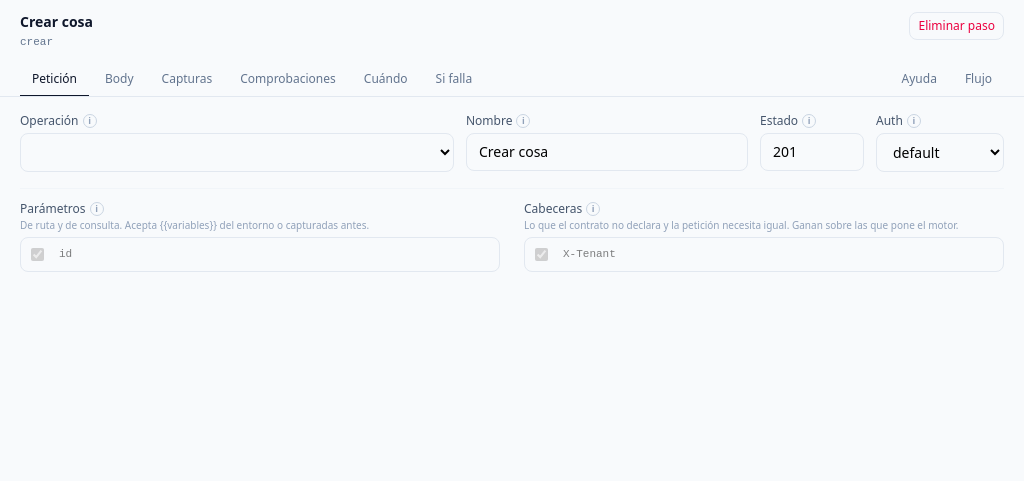
Scenario: la pestaña «Petición» › un login se presenta como login
Click the tab "Ayuda".
click(919, 80)  # box x1=890 y1=62 x2=949 y2=96
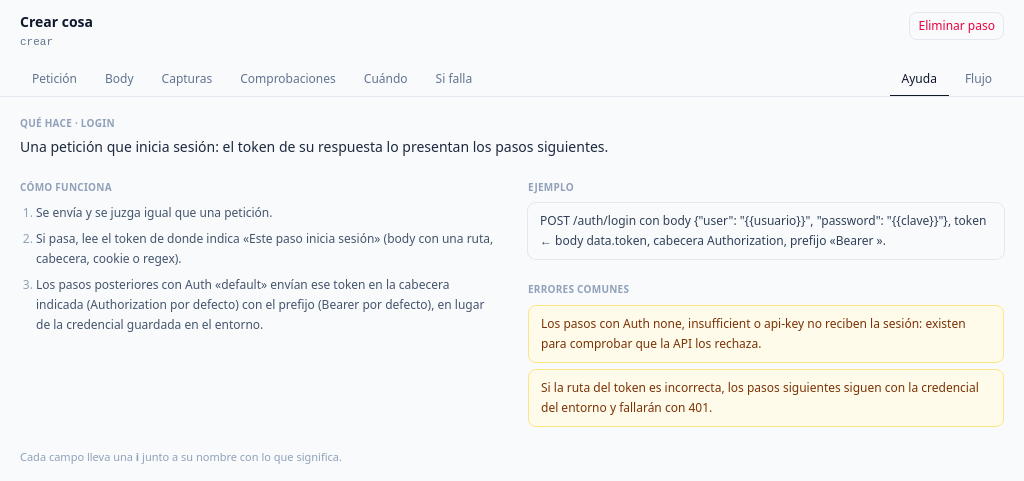
Expected: the button "Eliminar paso" is shown, x1=910 y1=12 x2=1004 y2=40
Expected: the text "Qué hace · Login" is shown, x1=20 y1=116 x2=115 y2=130
